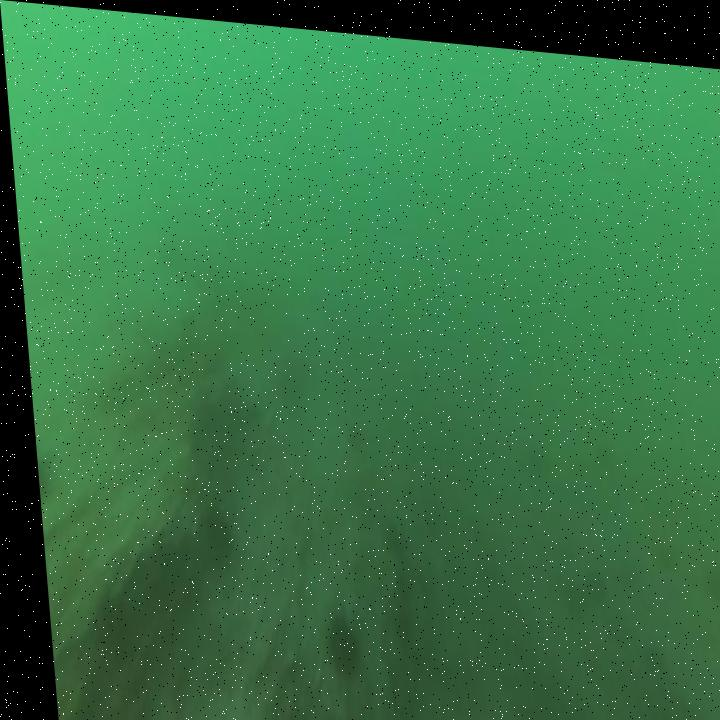echinus: (77, 586, 127, 676), (182, 493, 228, 580), (311, 598, 356, 683), (550, 565, 581, 621), (689, 542, 720, 595), (569, 549, 601, 597), (627, 622, 657, 669)
